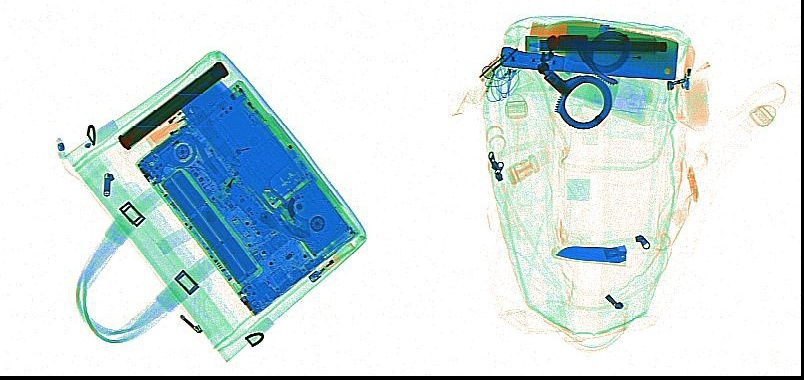handcuffs: (535, 30, 632, 129)
knife: (178, 75, 311, 238), (497, 34, 678, 80), (257, 208, 314, 243), (550, 243, 626, 266)
lighter: (144, 106, 199, 150), (308, 241, 356, 282), (594, 22, 652, 39), (681, 43, 695, 93)
